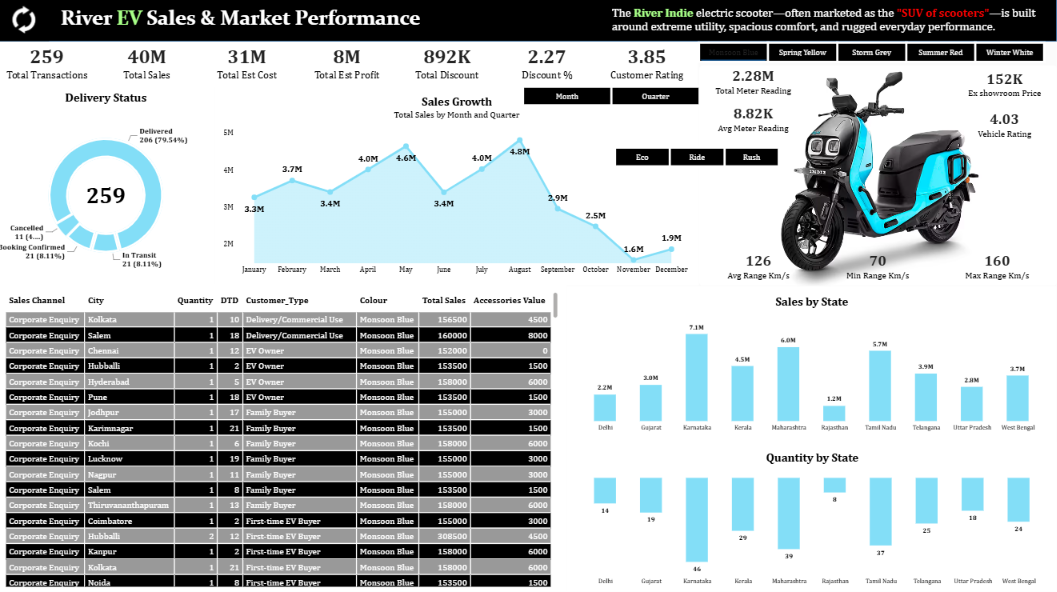

What the dashboard file says about the page in this screenshot:
{"tool":"powerbi","page":{"name":"Page 1","canvas":[1920,1080],"ordinal":0},"visuals":[{"type":"cardVisual","fields":{"Data":["Transactions.Total Transactions","Transactions.Total Sales","Transactions.Total Est Cost","Transactions.Total Est Profit","Transactions.Total Discount Given","Transactions.Total Discount Percentage","Transactions.Customer Rating"]},"box":[0,76,1268.6,83.2],"z":0},{"type":"cardVisual","fields":{"Data":["Min(Transactions.Image URL)"]},"box":[1270.5,122.1,649.5,399.1],"z":0,"group":"g1"},{"type":"shape","box":[0,0,1918.2,77.8],"z":1000},{"type":"cardVisual","fields":{"Data":["Transactions.Ex showroom price of Individual Vehicle"]},"box":[1727.7,120.1,191.9,72.4],"z":2000,"group":"g2"},{"type":"lineChart","title":"Sales Growth","fields":{"Category":["Transactions.Order_Date.Variation.Date Hierarchy.Month","Transactions.Order_Date.Variation.Date Hierarchy.Quarter"],"Y":["Transactions.Total Sales"]},"box":[394.5,159.3,875.9,360.1],"z":2000},{"type":"advancedSlicerVisual","fields":{"Values":["Date Axis.Date Axis"]},"box":[930.2,157.4,365.6,38],"z":3000},{"type":"advancedSlicerVisual","fields":{"Values":["Transactions.Colour"]},"box":[1248.7,77.8,669.6,39.8],"z":4000},{"type":"cardVisual","fields":{"Data":["Transactions.Average Rating"]},"box":[1727.7,192.5,191.9,75.7],"z":4000,"group":"g2"},{"type":"cardVisual","fields":{"Data":["Transactions.Average Range","Transactions.Minimum Range","Transactions.Maximum Range"]},"box":[1270.4,454.5,649.7,62.2],"z":4000,"group":"g1"},{"type":"actionButton","box":[0,0,97.7,77.8],"z":5000},{"type":"cardVisual","fields":{"Data":["Transactions.Total Odometer Reading","Transactions.Average Odometer Reading"]},"box":[1269.7,118.3,197.3,135.7],"z":5000,"group":"g1"},{"type":"textbox","box":[97.7,12.7,803.5,56.1],"z":6000},{"type":"donutChart","title":"Delivery Status","fields":{"Category":["Transactions.Delivery_Status"],"Y":["CountNonNull(Transactions.Delivery_Status)"]},"box":[0,152,394.5,369.2],"z":7000},{"type":"lineClusteredColumnComboChart","title":"Sales by State","fields":{"Category":["Transactions.State"],"Y":["Transactions.Total Sales"]},"box":[1031.5,521.2,886.7,282.3],"z":8000},{"type":"group","id":"g1","title":"Group 2","box":[1269.7,118.3,650.4,402.9],"z":9000},{"type":"group","id":"g2","title":"Group 1","box":[1727.7,120.1,191.9,149.9],"z":9000,"group":"g1"},{"type":"clusteredColumnChart","title":"Quantity by State","fields":{"Category":["Transactions.State"],"Y":["CountNonNull(Transactions.Quantity)"]},"box":[1031.5,803.5,888.5,276.9],"z":10000},{"type":"tableEx","fields":{"Values":["Transactions.Sales_Channel","Transactions.City","Sum(Transactions.Quantity)","Sum(Transactions.Days_To_Delivery)","Transactions.Customer_Type","Transactions.Colour","Transactions.Total Sales","Transactions.Accessories Value"]},"box":[0,517.6,1031.5,562.8],"z":11000},{"type":"advancedSlicerVisual","fields":{"Values":["Transactions.Preferred_Riding_Mode"]},"box":[1096.7,267.8,343.8,38],"z":12000},{"type":"textbox","box":[1112.9,12.7,805.3,54.3],"z":12001}]}

Visuals, with their boxes in screenshot pixels (x1, y1, x2, y2), scaled from the page's 1920x1080 canvas onto the 1057x592 screenshot:
cardVisual - Transactions.Total Transactions x Transactions.Total Sales: detection(0, 42, 698, 87)
cardVisual - Min(Transactions.Image URL): detection(699, 67, 1056, 286)
shape: detection(0, 0, 1056, 43)
cardVisual - Transactions.Ex showroom price of Individual Vehicle: detection(951, 66, 1056, 106)
"Sales Growth" lineChart: detection(217, 87, 699, 285)
advancedSlicerVisual - Date Axis.Date Axis: detection(512, 86, 713, 107)
advancedSlicerVisual - Transactions.Colour: detection(687, 43, 1056, 64)
cardVisual - Transactions.Average Rating: detection(951, 106, 1056, 147)
cardVisual - Transactions.Average Range x Transactions.Minimum Range: detection(699, 249, 1056, 283)
actionButton: detection(0, 0, 54, 43)
cardVisual - Transactions.Total Odometer Reading x Transactions.Average Odometer Reading: detection(699, 65, 808, 139)
textbox: detection(54, 7, 496, 38)
"Delivery Status" donutChart: detection(0, 83, 217, 286)
"Sales by State" lineClusteredColumnComboChart: detection(568, 286, 1056, 440)
"Group 2" group: detection(699, 65, 1056, 286)
"Group 1" group: detection(951, 66, 1056, 148)
"Quantity by State" clusteredColumnChart: detection(568, 440, 1056, 591)
tableEx - Transactions.Sales_Channel x Transactions.City: detection(0, 284, 568, 591)
advancedSlicerVisual - Transactions.Preferred_Riding_Mode: detection(604, 147, 793, 168)
textbox: detection(613, 7, 1056, 37)
